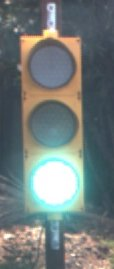Green: (4, 14, 96, 232)
